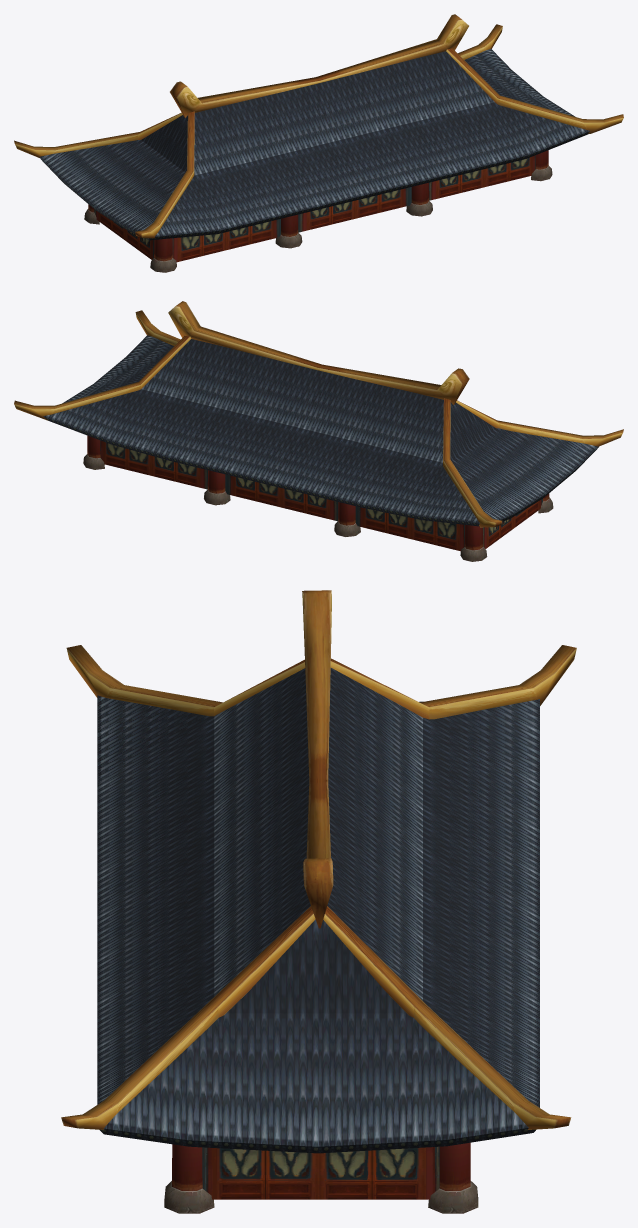
File: environment_Building_Gongdian_001_b.FBX
3 views of the same model, one above another, from view 1: azimuth 30°, elevation 25°; view 2: azimuth 150°, elevation 25°; view 3: azimuth 270°, elevation 25° (orthographic). The views are drawn at different scales.
Parts seen in each view (by area): view 1: environment_Building_Gongdian_001_b01, environment_Building_Gongdian_001_b02, environment_Building_Gongdian_001_b04, environment_Building_Gongdian_001_b03; view 2: environment_Building_Gongdian_001_b01, environment_Building_Gongdian_001_b02, environment_Building_Gongdian_001_b04, environment_Building_Gongdian_001_b03; view 3: environment_Building_Gongdian_001_b01, environment_Building_Gongdian_001_b02, environment_Building_Gongdian_001_b04, environment_Building_Gongdian_001_b03.
Part boxes in pixels (x1,y1,x2,y2): environment_Building_Gongdian_001_b01: (39,49,589,240); environment_Building_Gongdian_001_b02: (14,14,623,238); environment_Building_Gongdian_001_b04: (94,155,535,262); environment_Building_Gongdian_001_b03: (84,150,552,272); environment_Building_Gongdian_001_b01: (43,335,598,526); environment_Building_Gongdian_001_b02: (14,301,623,527); environment_Building_Gongdian_001_b04: (100,440,542,551); environment_Building_Gongdian_001_b03: (83,435,553,561); environment_Building_Gongdian_001_b01: (97,668,539,1153); environment_Building_Gongdian_001_b02: (61,590,576,1129); environment_Building_Gongdian_001_b04: (202,1146,439,1199); environment_Building_Gongdian_001_b03: (164,1142,478,1213).
Size of the model in its own units: 1450 by 428 by 665.
Materials: 4 (4 with a texture image).
